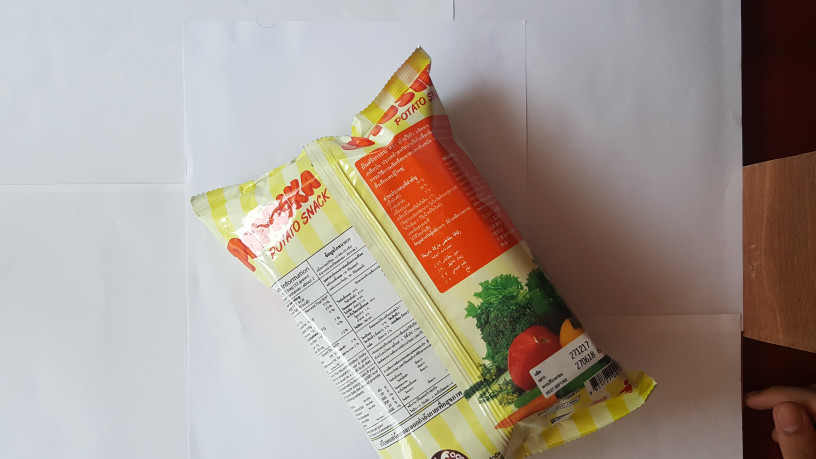paprika: (190, 57, 676, 458)
